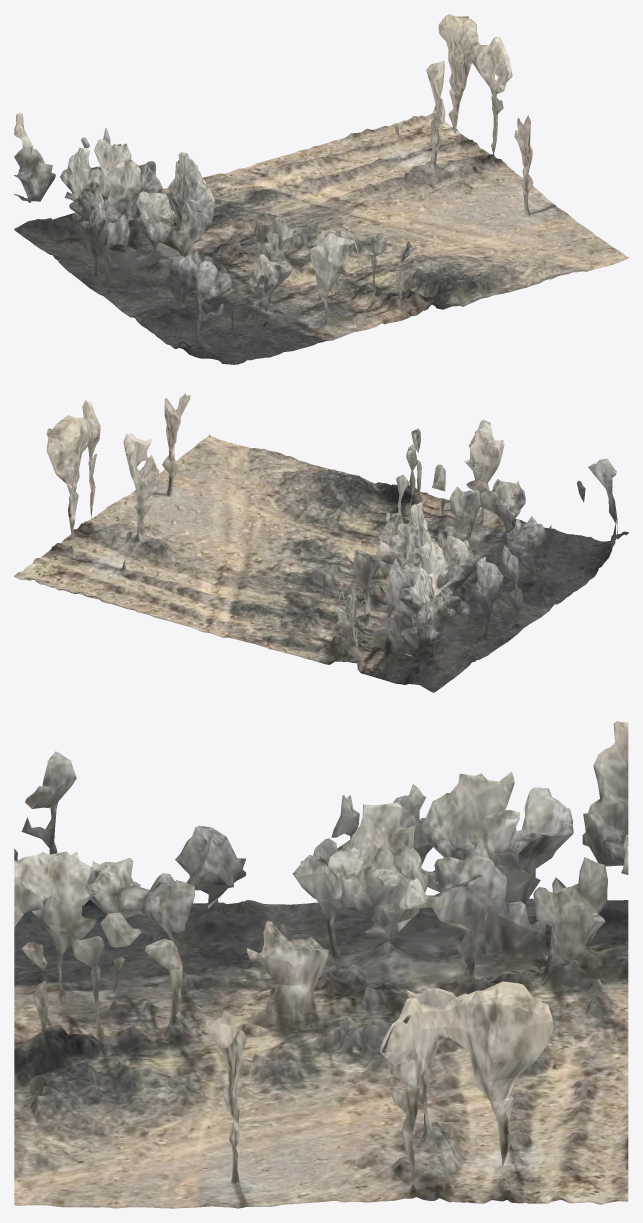
File: Block_L18_72.glb
3 renders of one model, top to bottom at view 1: azimuth 30°, elevation 25°; view 2: azimuth 150°, elevation 25°; view 3: azimuth 270°, elevation 25°, orthographic. The views are drawn at different scales.
Parts seen in each view (by area): view 1: rtc; view 2: rtc; view 3: rtc.
Boxes of the visible parts, <box> form: rtc: <box>14,14,628,364</box>; rtc: <box>14,393,628,692</box>; rtc: <box>14,721,628,1208</box>.
Size of the model in its own units: 43.86 by 14.74 by 35.35.
Materials: 4 (4 with a texture image).
